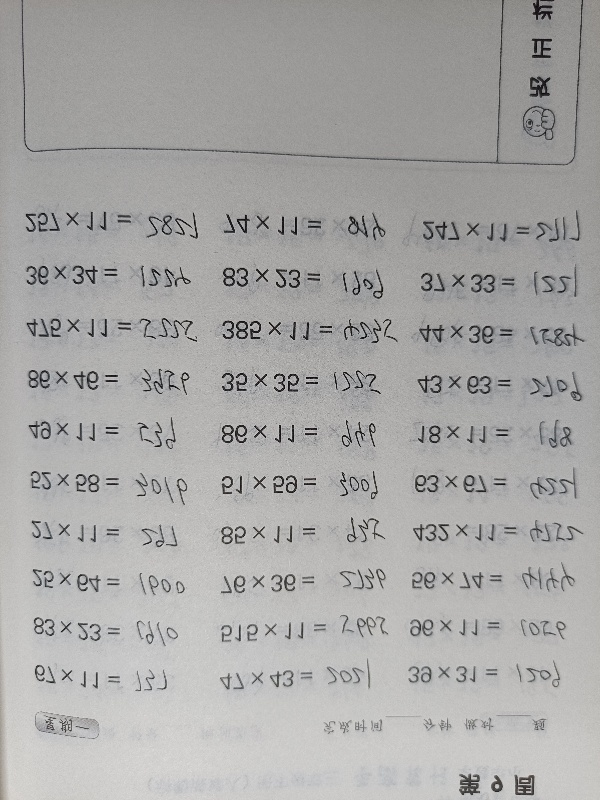equation: (406, 510, 586, 558), (413, 205, 593, 252), (215, 310, 400, 348), (17, 309, 197, 348), (16, 205, 196, 240), (214, 208, 394, 243), (17, 258, 197, 293), (213, 261, 393, 296), (19, 363, 199, 398), (214, 365, 394, 400), (20, 414, 200, 449), (411, 267, 591, 301), (410, 318, 590, 352), (408, 368, 588, 402), (409, 417, 589, 451), (213, 417, 393, 451), (21, 466, 201, 500), (212, 468, 392, 502), (23, 516, 203, 550), (212, 518, 392, 552), (211, 567, 391, 601), (24, 614, 204, 648), (406, 467, 586, 500), (23, 566, 203, 599), (401, 611, 581, 644), (25, 662, 205, 695), (211, 663, 391, 696), (403, 564, 583, 596), (212, 616, 392, 648), (400, 658, 580, 690)
